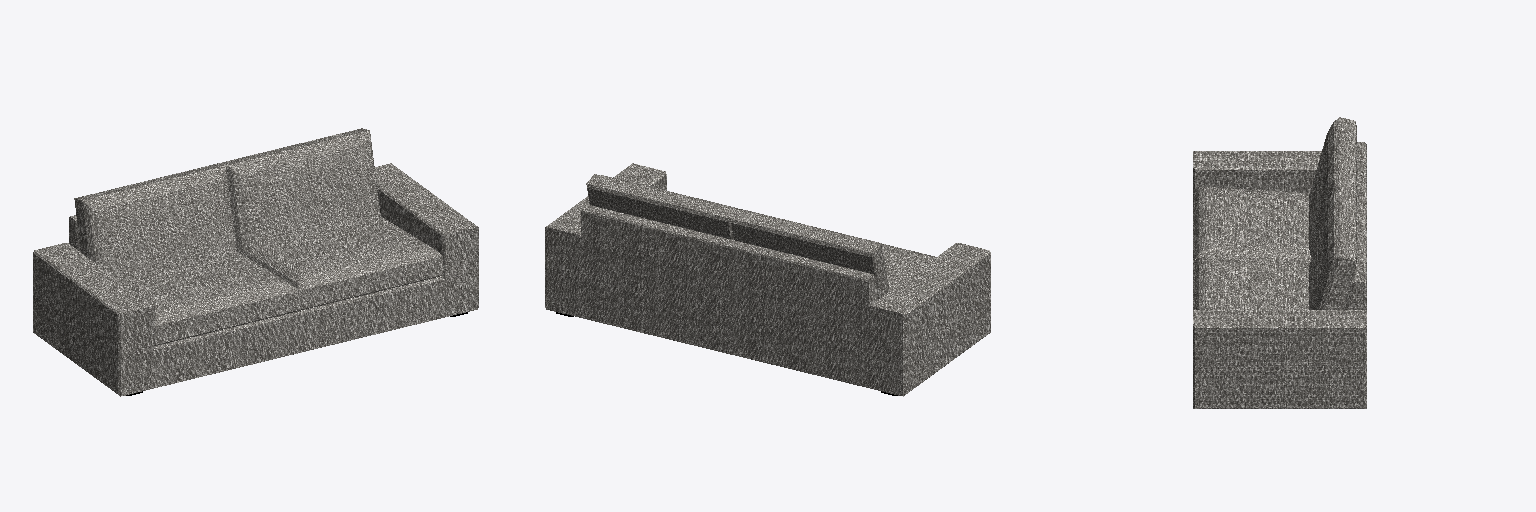
3 views of the same model, side by side, from view 1: azimuth 30°, elevation 25°; view 2: azimuth 150°, elevation 25°; view 3: azimuth 270°, elevation 25° (orthographic).
Parts seen in each view (by area): view 1: Mesh5 _KIVIK_three_seat_sofa1 Model; view 2: Mesh5 _KIVIK_three_seat_sofa1 Model; view 3: Mesh5 _KIVIK_three_seat_sofa1 Model.
Part boxes in pixels (bbox=[...]): Mesh5 _KIVIK_three_seat_sofa1 Model: bbox=[33, 128, 478, 396]; Mesh5 _KIVIK_three_seat_sofa1 Model: bbox=[545, 163, 990, 396]; Mesh5 _KIVIK_three_seat_sofa1 Model: bbox=[1193, 117, 1366, 408].
Bounding box in the file's own units: 89.76 × 32.67 × 37.4.
2 materials, 1 textured.